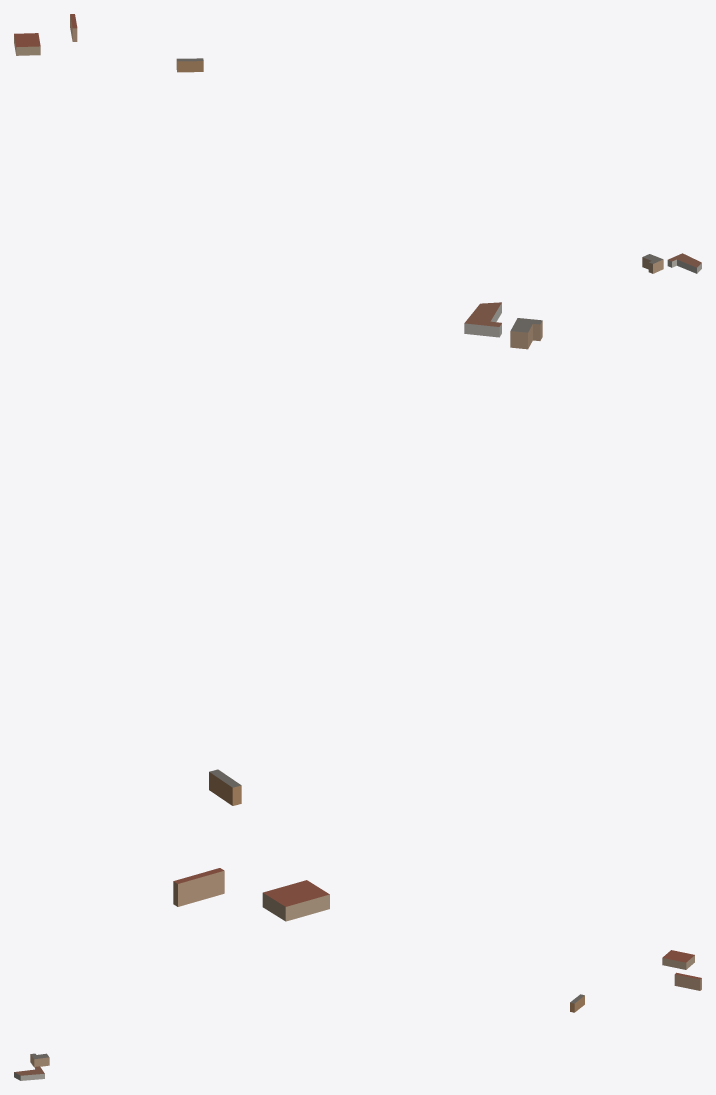
The model's file is SM_Fondale_Citta_S_01_LOD1.fbx.
3 views of the same model, one above another, from view 1: azimuth 30°, elevation 25°; view 2: azimuth 150°, elevation 25°; view 3: azimuth 270°, elevation 25° (orthographic). The views are drawn at different scales.
Parts seen in each view (by area): view 1: SM_Fondale_Citta_S_01_LOD1; view 2: SM_Fondale_Citta_S_01_LOD1; view 3: SM_Fondale_Citta_S_01_LOD1.
Part boxes in pixels (x1,y1,x2,y2): SM_Fondale_Citta_S_01_LOD1: (14,14,701,273); SM_Fondale_Citta_S_01_LOD1: (173,302,542,921); SM_Fondale_Citta_S_01_LOD1: (14,950,701,1080).
Size of the model in its own units: 42789 by 101923 by 1883.
